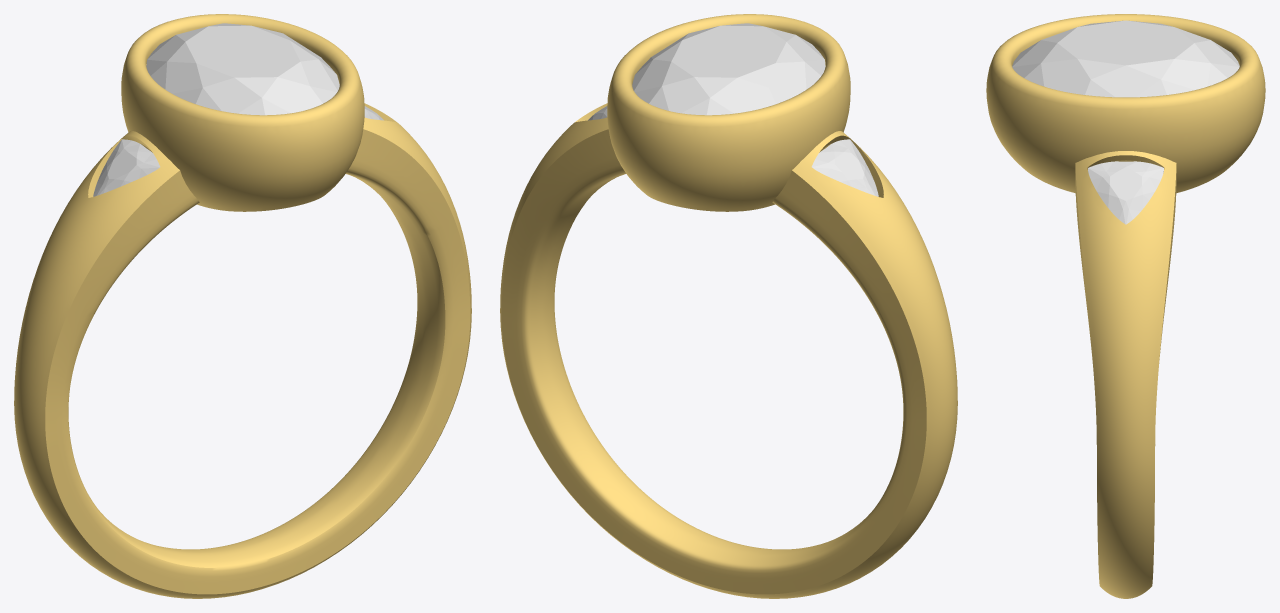
File: SamV3eng_blender.glb
3 renders of one model, left to right at view 1: azimuth 30°, elevation 25°; view 2: azimuth 150°, elevation 25°; view 3: azimuth 270°, elevation 25°, orthographic.
Visible parts, largest first — view 1: V3 Sam YG for 3d model, V3 Sam dia for 3d model.002, V3 Sam dia for 3d model.001; view 2: V3 Sam YG for 3d model, V3 Sam dia for 3d model.002, V3 Sam dia for 3d model.001; view 3: V3 Sam YG for 3d model, V3 Sam dia for 3d model.002, V3 Sam dia for 3d model.
Boxes of the visible parts, left/top/right/bottom form: V3 Sam YG for 3d model: left=14, top=14, right=471, bottom=598; V3 Sam dia for 3d model.002: left=146, top=23, right=339, bottom=115; V3 Sam dia for 3d model.001: left=93, top=139, right=160, bottom=196; V3 Sam YG for 3d model: left=500, top=14, right=957, bottom=598; V3 Sam dia for 3d model.002: left=632, top=23, right=825, bottom=115; V3 Sam dia for 3d model.001: left=811, top=139, right=878, bottom=196; V3 Sam YG for 3d model: left=986, top=14, right=1265, bottom=598; V3 Sam dia for 3d model.002: left=1012, top=20, right=1239, bottom=97; V3 Sam dia for 3d model: left=1088, top=161, right=1163, bottom=224.
Bounding box in the file's own units: 20.1 × 23.13 × 11.
